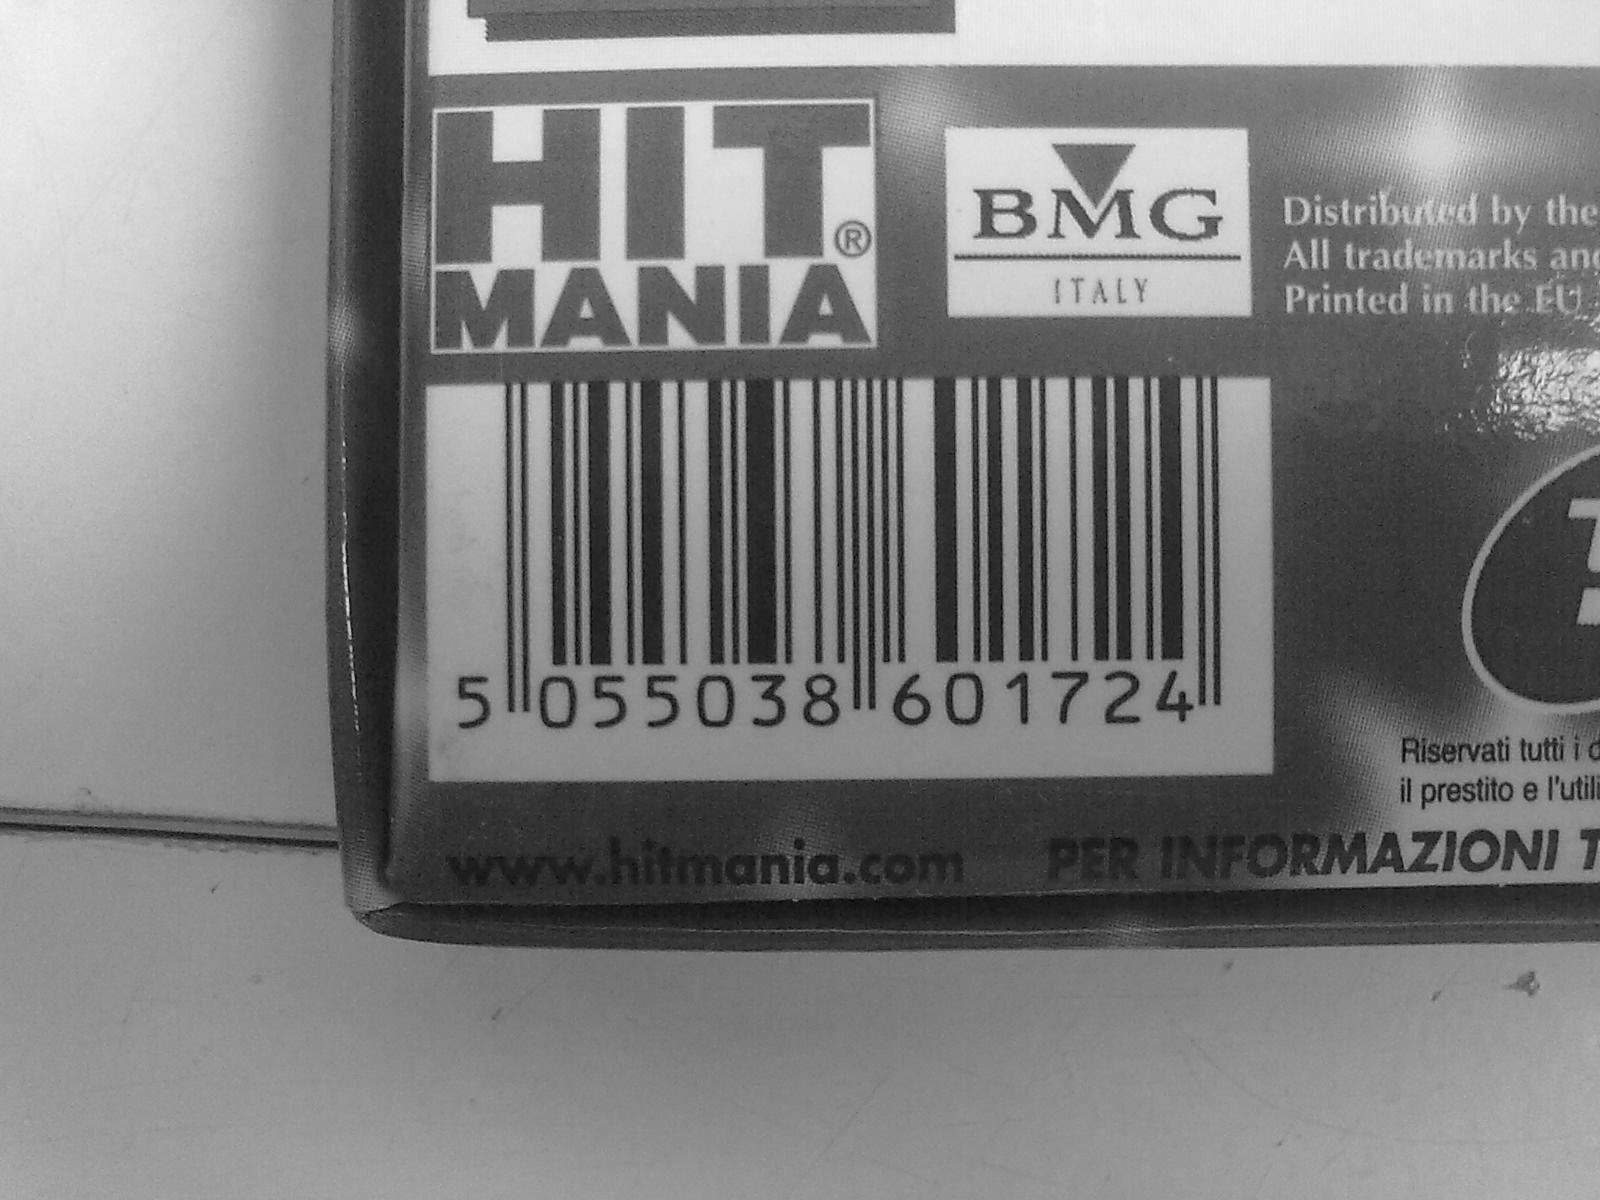Barcode: (440, 378, 1265, 726)
